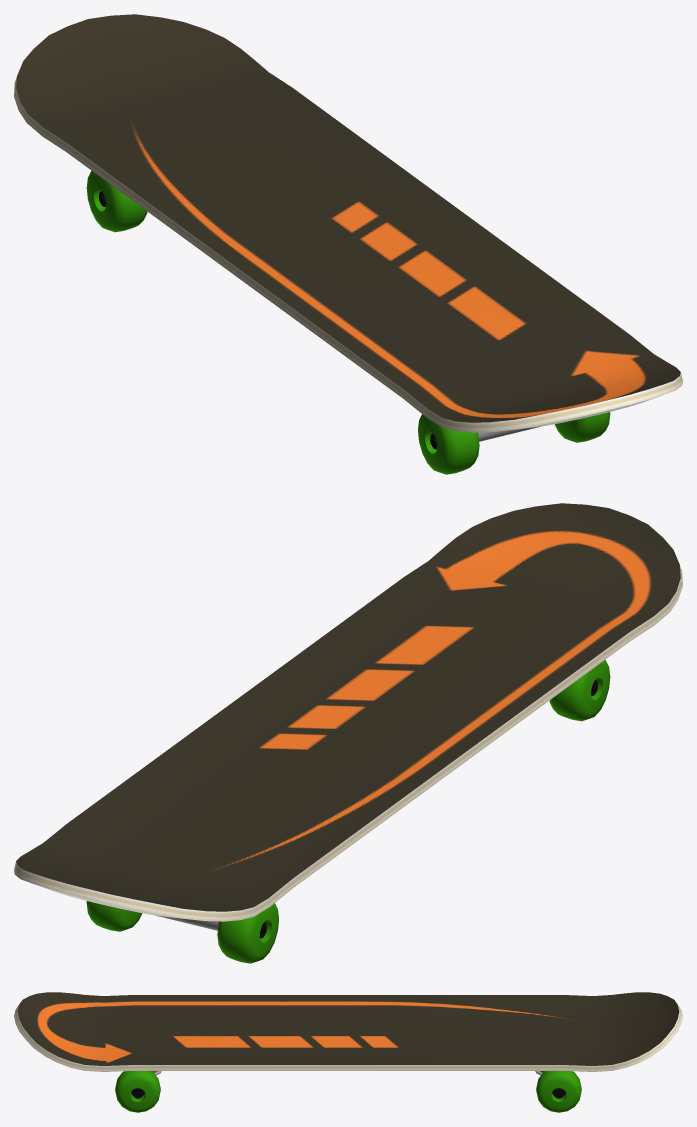
File: skateboard.obj
The picture shows the model from 3 angles, top to bottom: view 1: azimuth 30°, elevation 25°; view 2: azimuth 150°, elevation 25°; view 3: azimuth 270°, elevation 25°; orthographic projection. The views are drawn at different scales.
Visible parts, largest first — view 1: Circle, wheels_Cylinder; view 2: Circle, wheels_Cylinder; view 3: Circle, wheels_Cylinder.
Part boxes in pixels (x1,y1,x2,y2): Circle: [14, 14, 682, 432]; wheels_Cylinder: [86, 170, 610, 474]; Circle: [14, 503, 682, 921]; wheels_Cylinder: [86, 659, 610, 963]; Circle: [14, 992, 682, 1071]; wheels_Cylinder: [115, 1071, 581, 1112].
Size of the model in its own units: 20 by 10.43 by 80.23.
